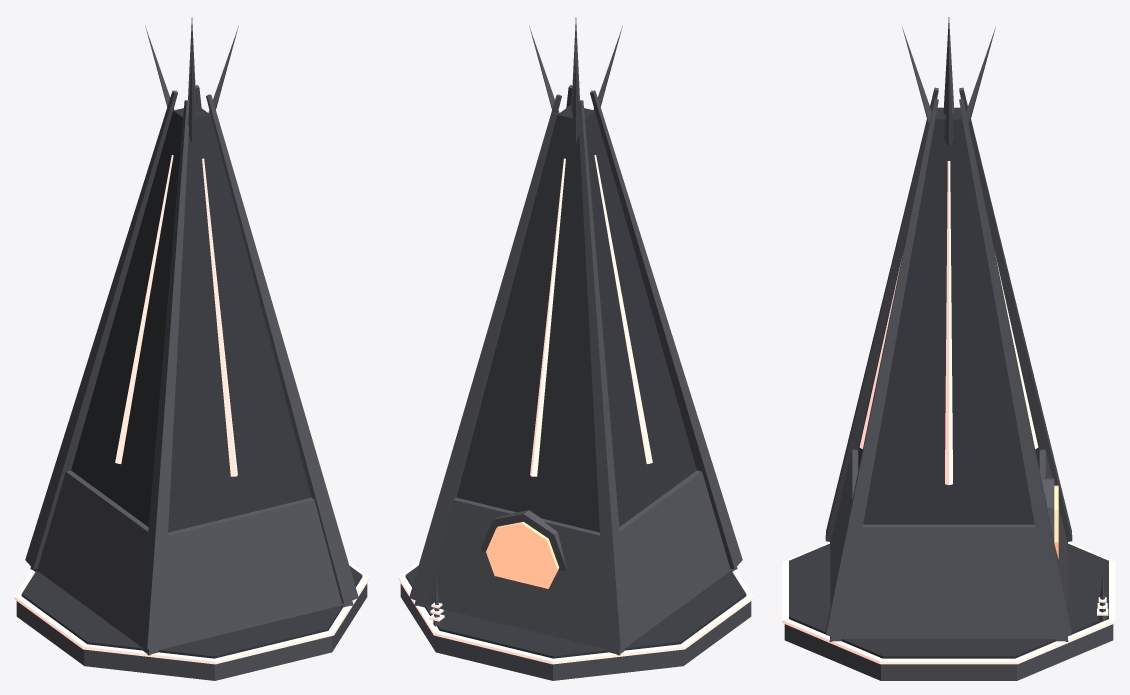
Rendered from zone_high_6_t3.glb.
The picture shows the model from 3 angles, left to right: view 1: azimuth 30°, elevation 25°; view 2: azimuth 150°, elevation 25°; view 3: azimuth 270°, elevation 25°; orthographic projection.
Parts seen in each view (by area): view 1: zone_high_6_t3; view 2: zone_high_6_t3; view 3: zone_high_6_t3.
Part boxes in pixels (x1,y1,x2,y2): zone_high_6_t3: (14, 17, 369, 680); zone_high_6_t3: (398, 17, 753, 680); zone_high_6_t3: (782, 17, 1115, 680).
Size of the model in its own units: 27.35 by 54.06 by 27.35.
